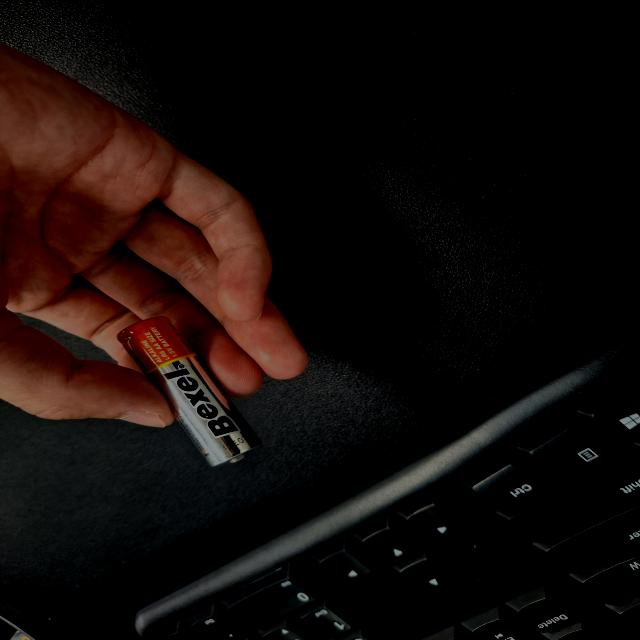AA: (232, 249, 432, 355)
